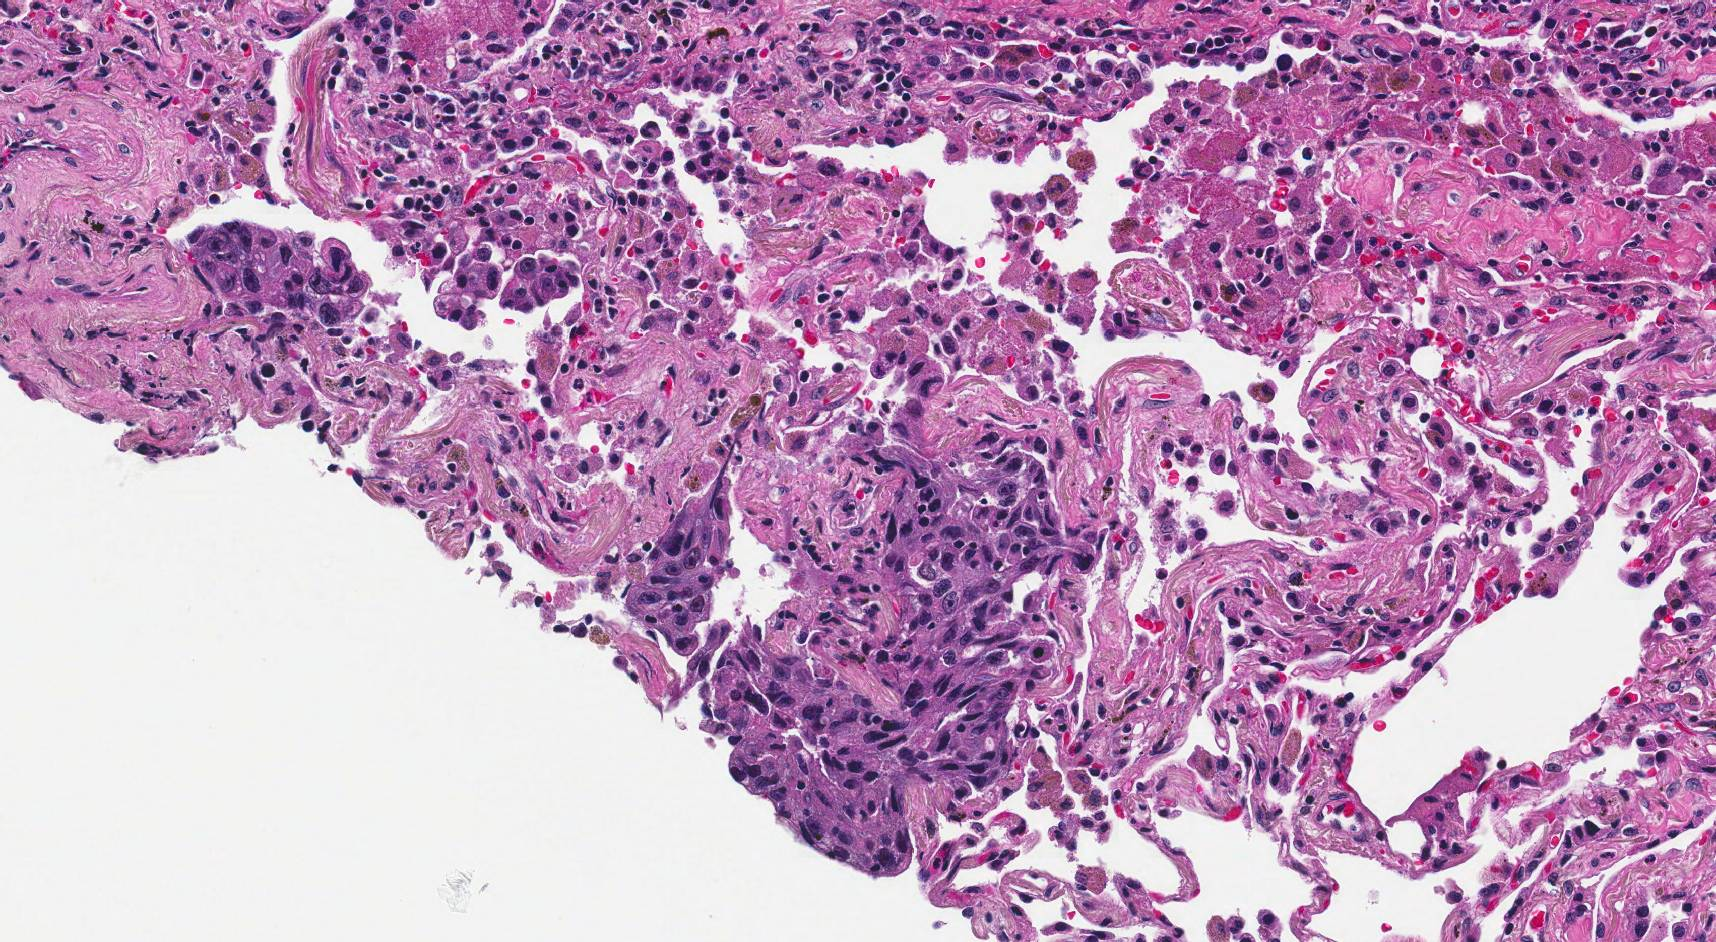stas: (698, 447, 1093, 878), (620, 478, 739, 652), (187, 221, 368, 326), (434, 245, 578, 327)
